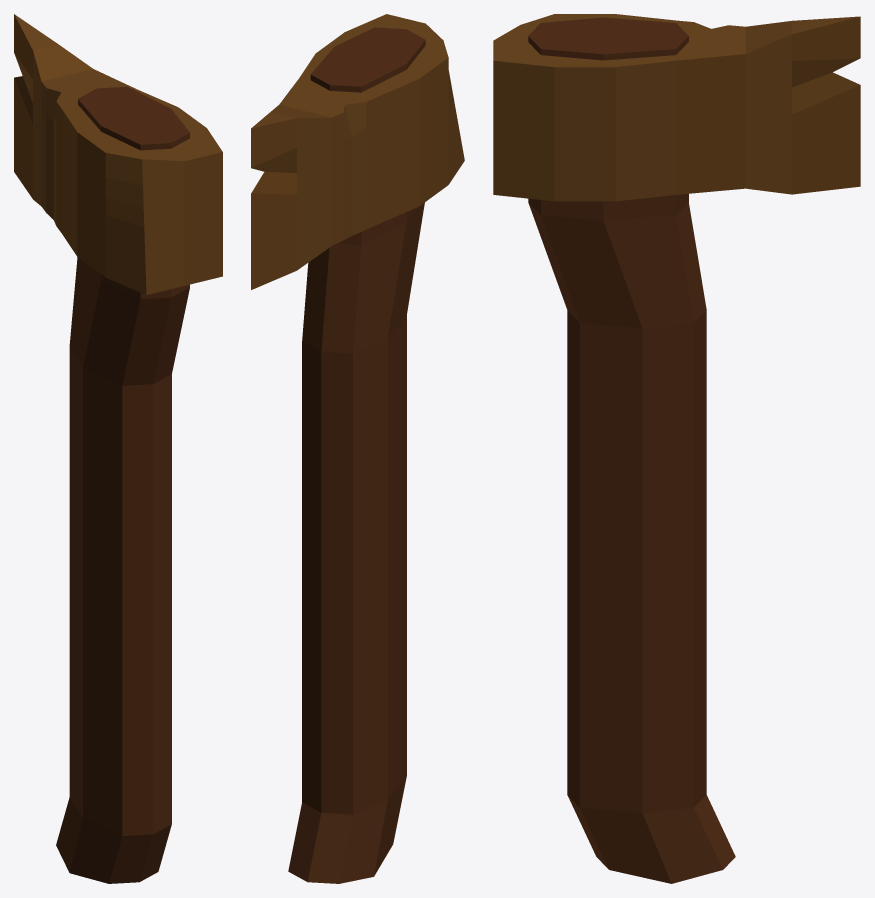
Rendered from AxeBad.fbx.
3 renders of one model, left to right at view 1: azimuth 30°, elevation 25°; view 2: azimuth 150°, elevation 25°; view 3: azimuth 270°, elevation 25°, orthographic. The views are drawn at different scales.
Parts seen in each view (by area): view 1: Cylinder, Cube; view 2: Cylinder, Cube; view 3: Cylinder, Cube.
Part boxes in pixels (left/top/right/bottom): Cylinder: left=56, top=86, right=189, bottom=883; Cube: left=14, top=14, right=222, bottom=294; Cylinder: left=288, top=27, right=425, bottom=883; Cube: left=251, top=14, right=464, bottom=289; Cylinder: left=528, top=17, right=735, bottom=883; Cube: left=493, top=14, right=860, bottom=201.
Size of the model in its own units: 289 by 842 by 2145.
